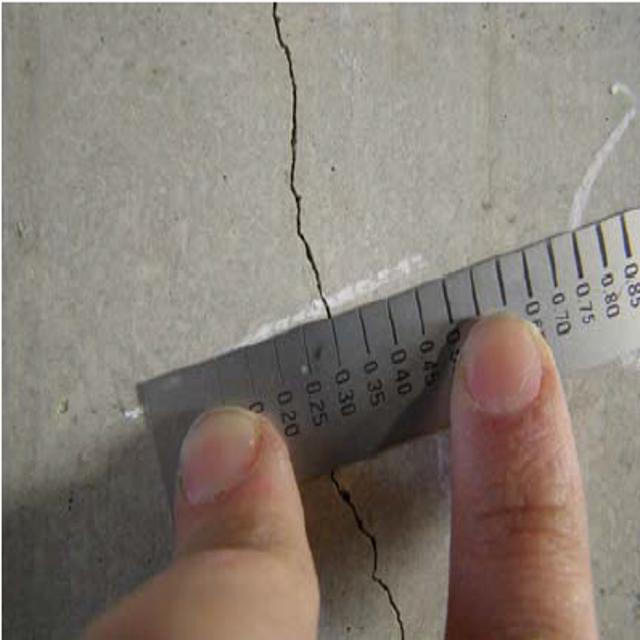crack: (260, 4, 357, 327), (320, 478, 418, 640)
